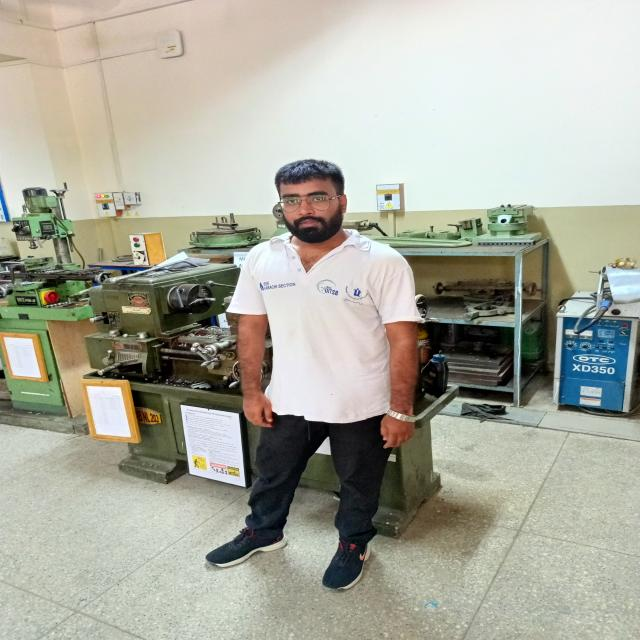dress: (223, 225, 430, 547)
glasses: (270, 190, 349, 212)
